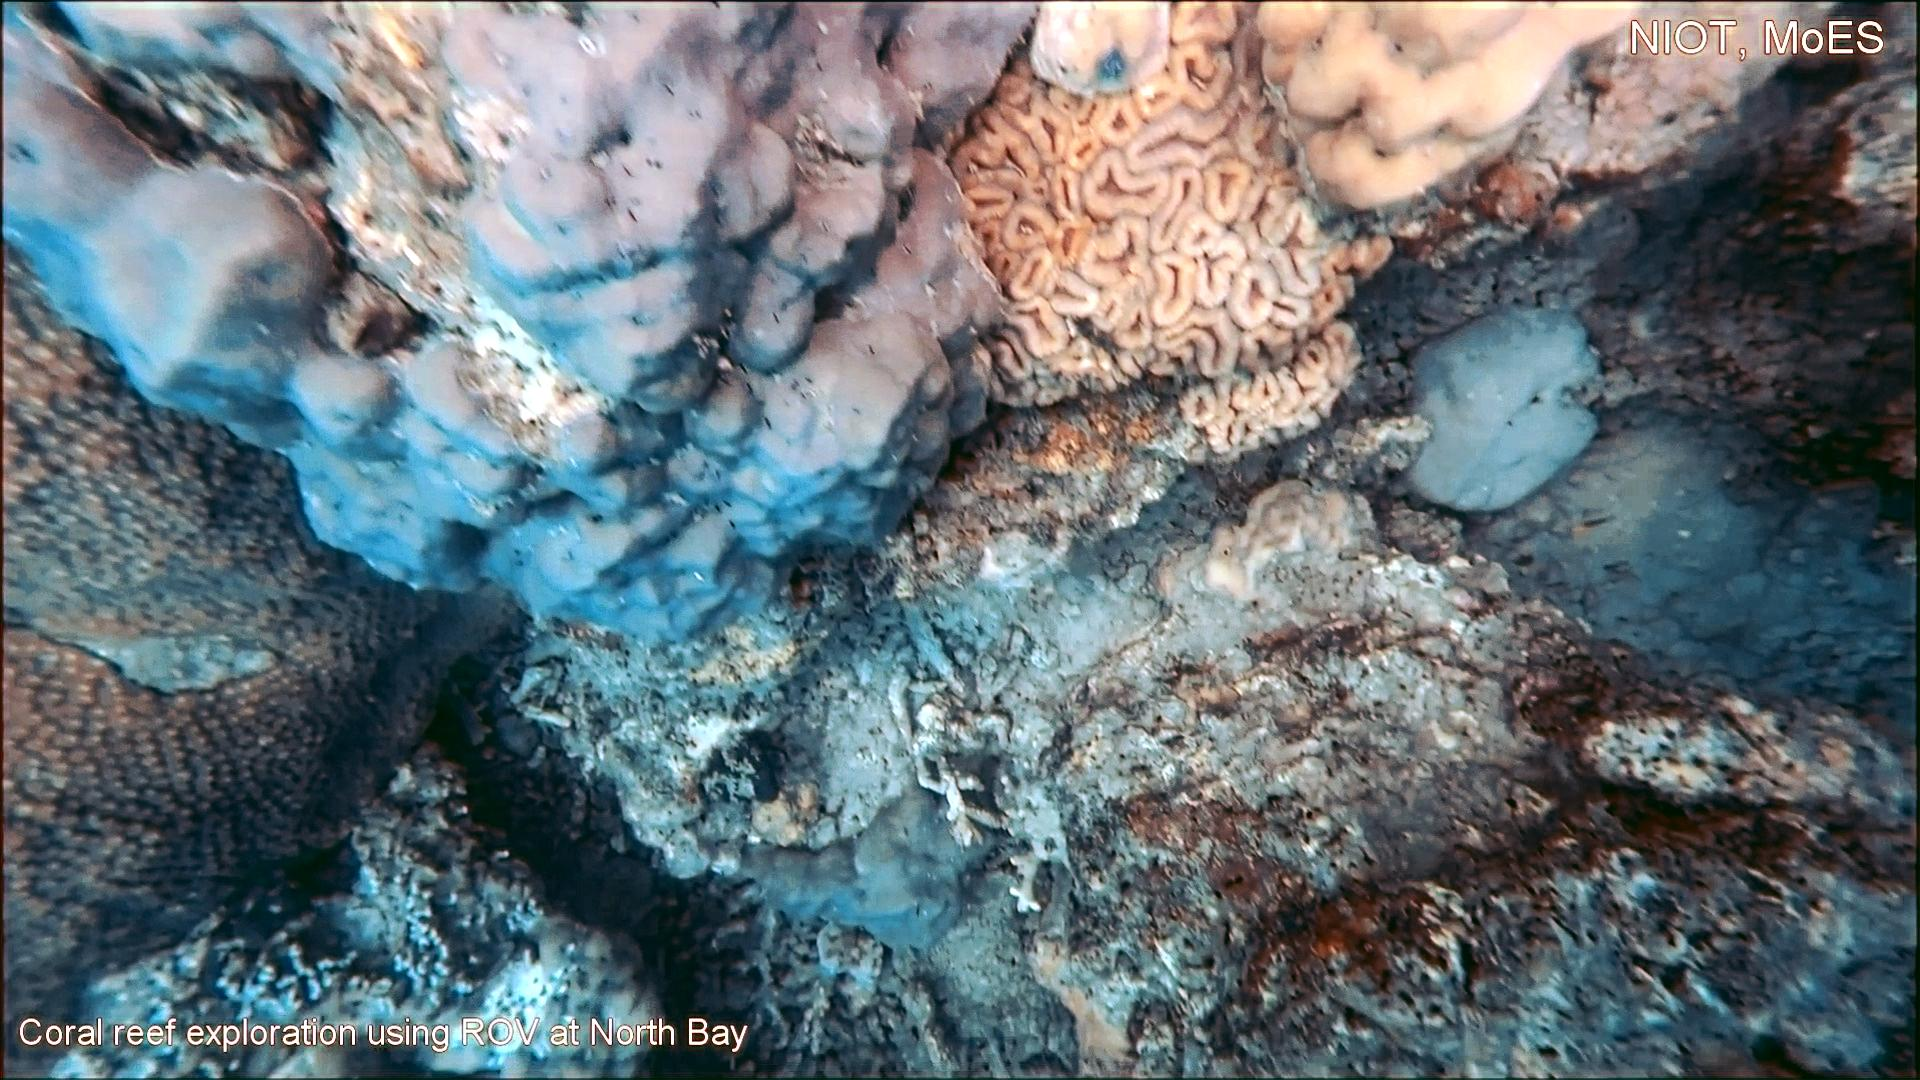Lobophyllia: (928, 0, 1400, 475)
